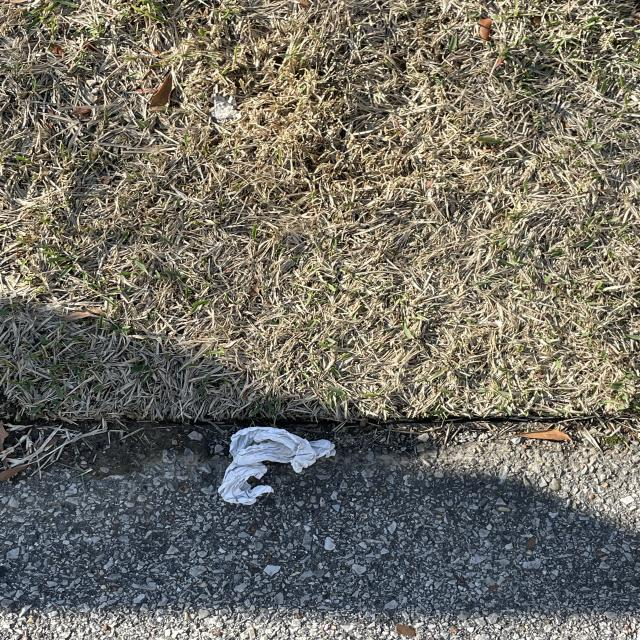paper: (193, 418, 340, 512)
trash-zQNu: (188, 414, 348, 510)
